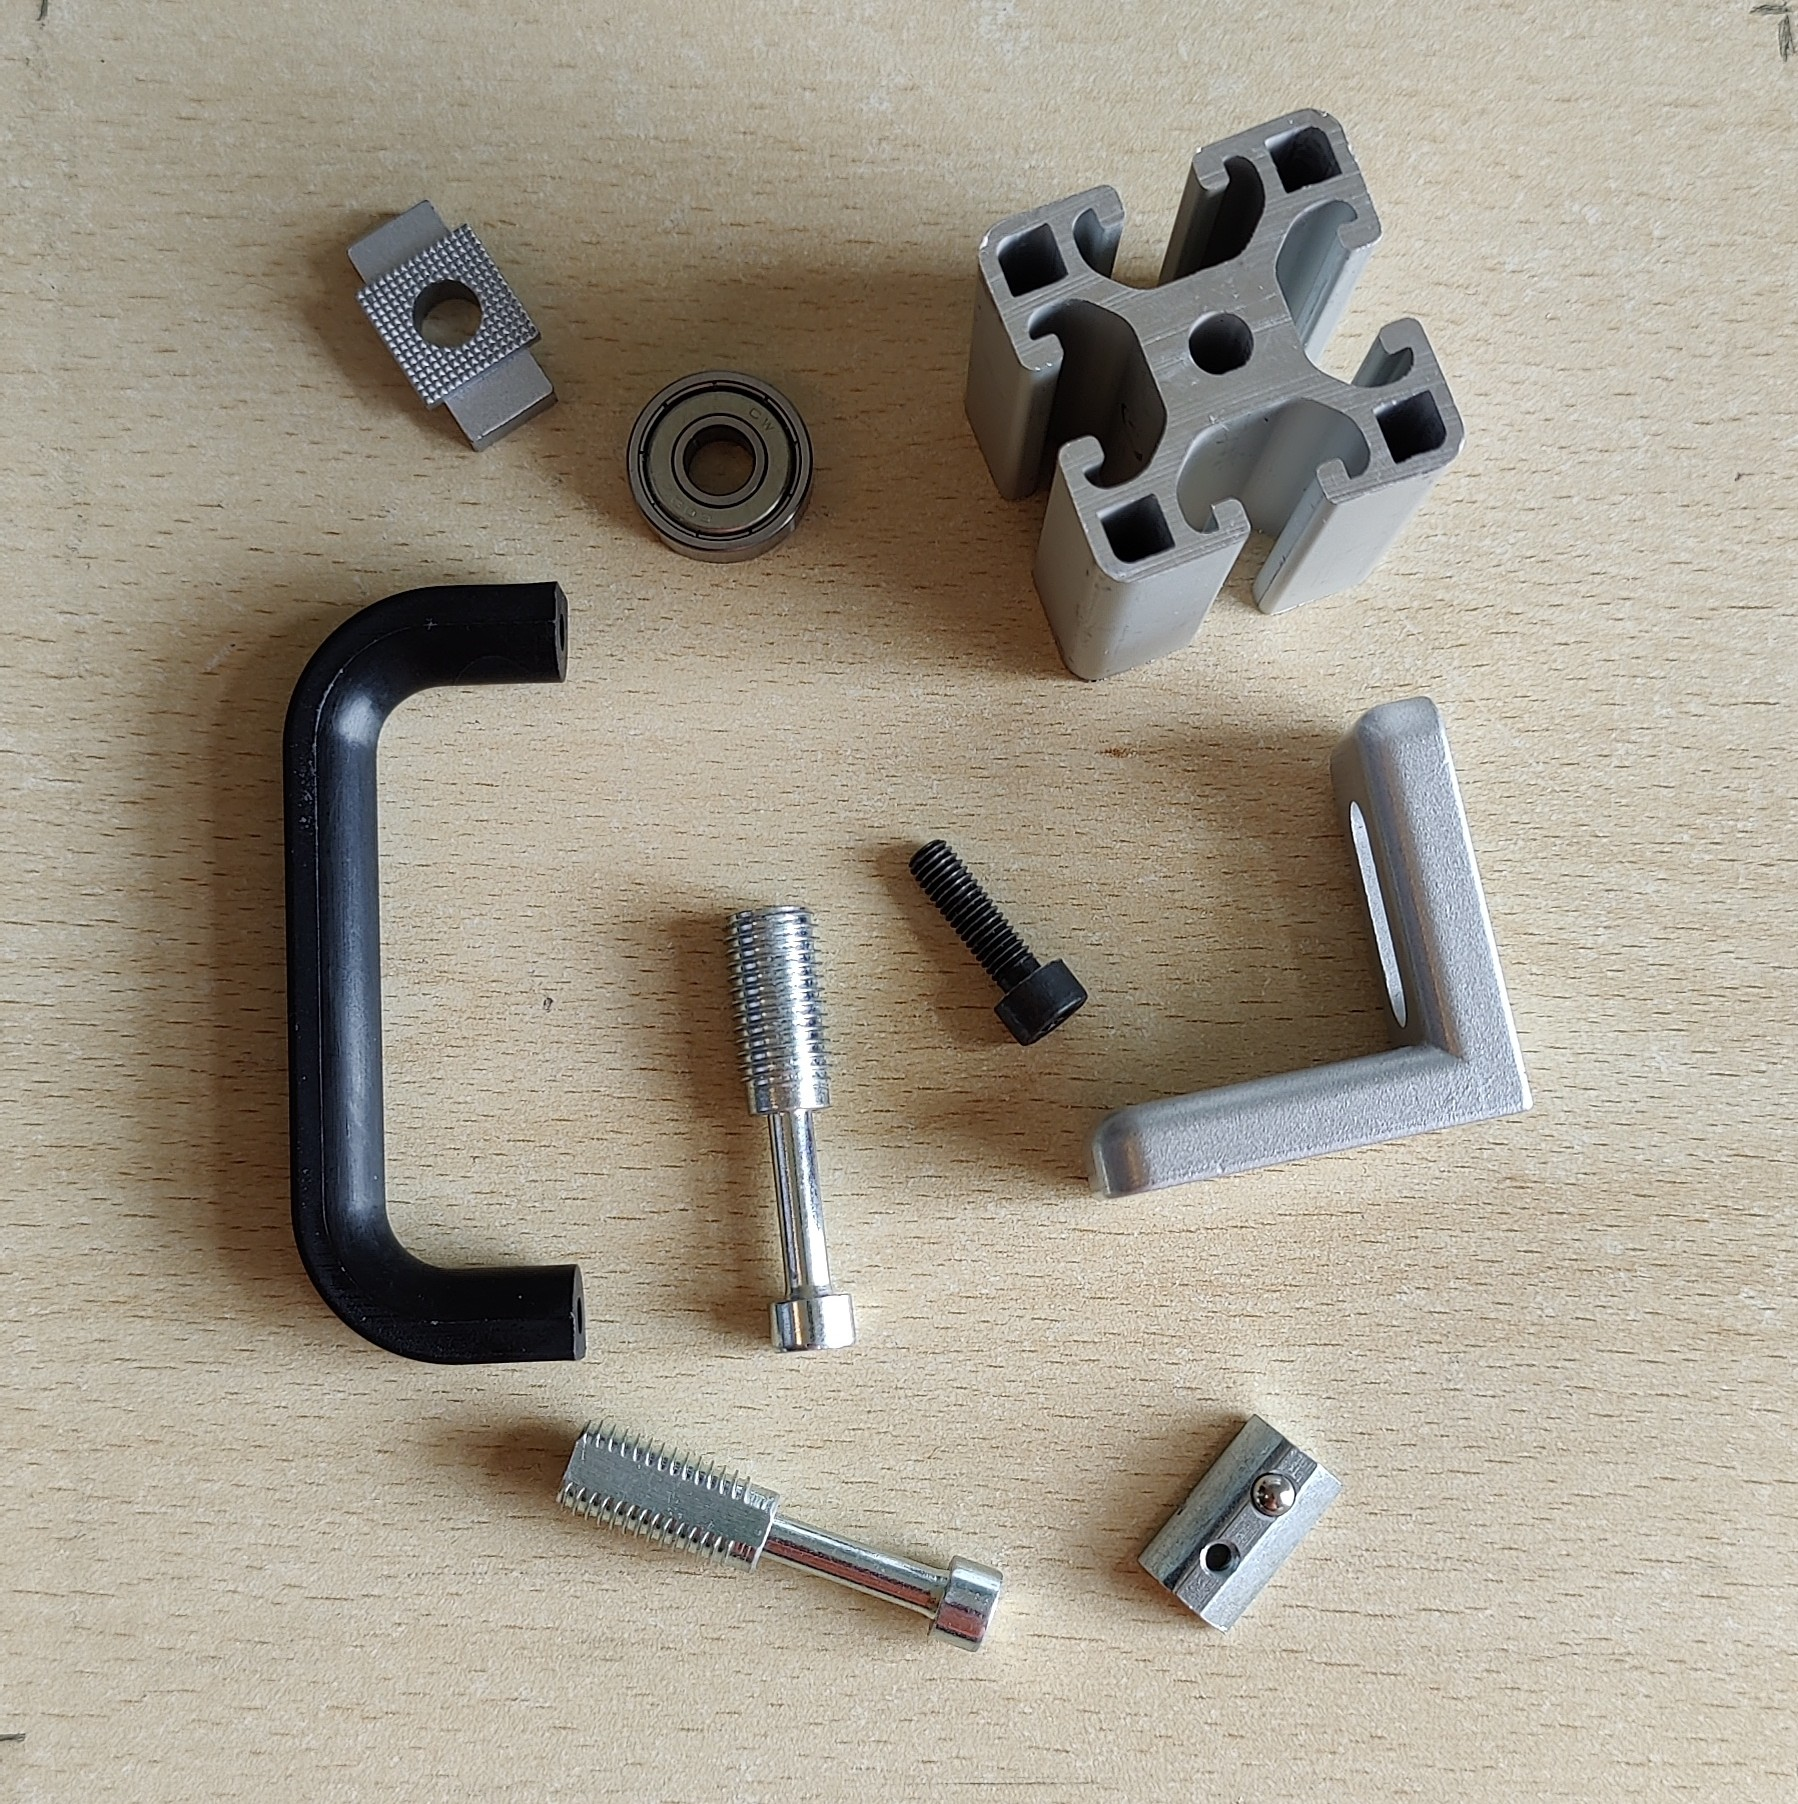Aluminium Extension: (962, 104, 1465, 685)
Ball Bearing: (624, 364, 817, 566)
Multiwinkel: (1088, 696, 1535, 1203)
Pull Handle: (278, 578, 588, 1368)
Shoulder Socket Head Cap Screw: (552, 1417, 1008, 1656), (723, 900, 856, 1356)
Socket Head Cap Screw: (906, 836, 1088, 1048)
T Nut Square: (346, 194, 561, 454)
T Spring Nut: (1136, 1412, 1344, 1636)
